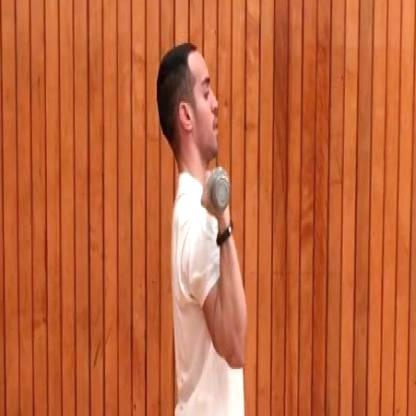Barbell: (210, 171, 230, 215)
